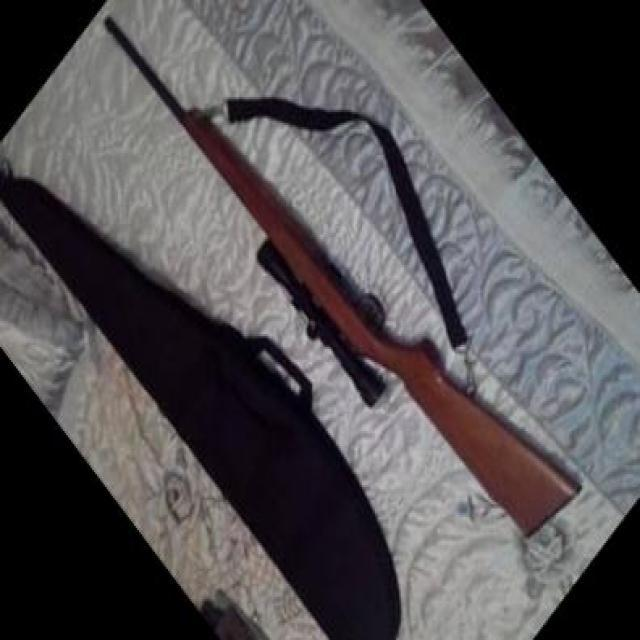weapon: (102, 16, 583, 542)
